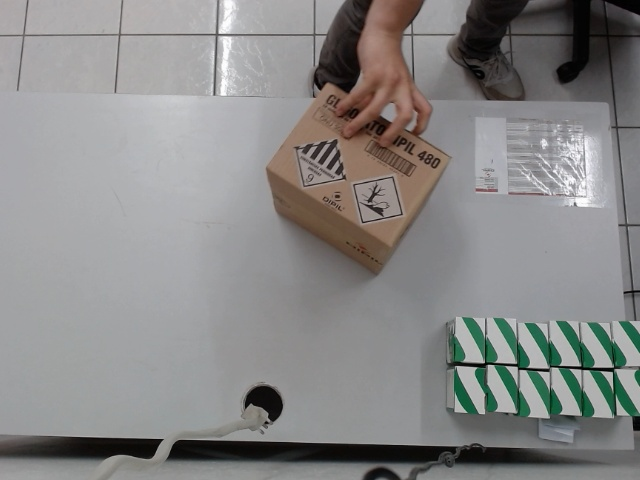caixa_principal: (267, 82, 453, 280)
